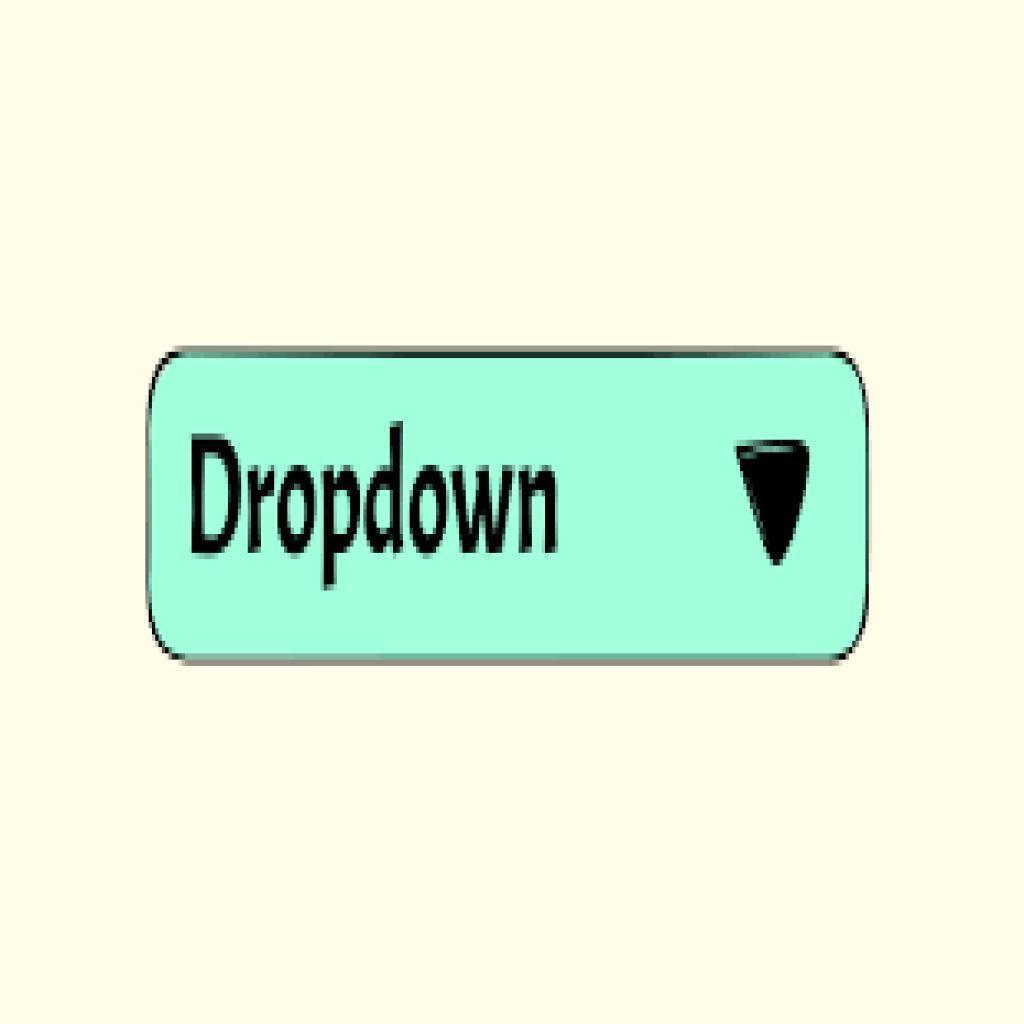dropdown: (150, 349, 867, 659)
